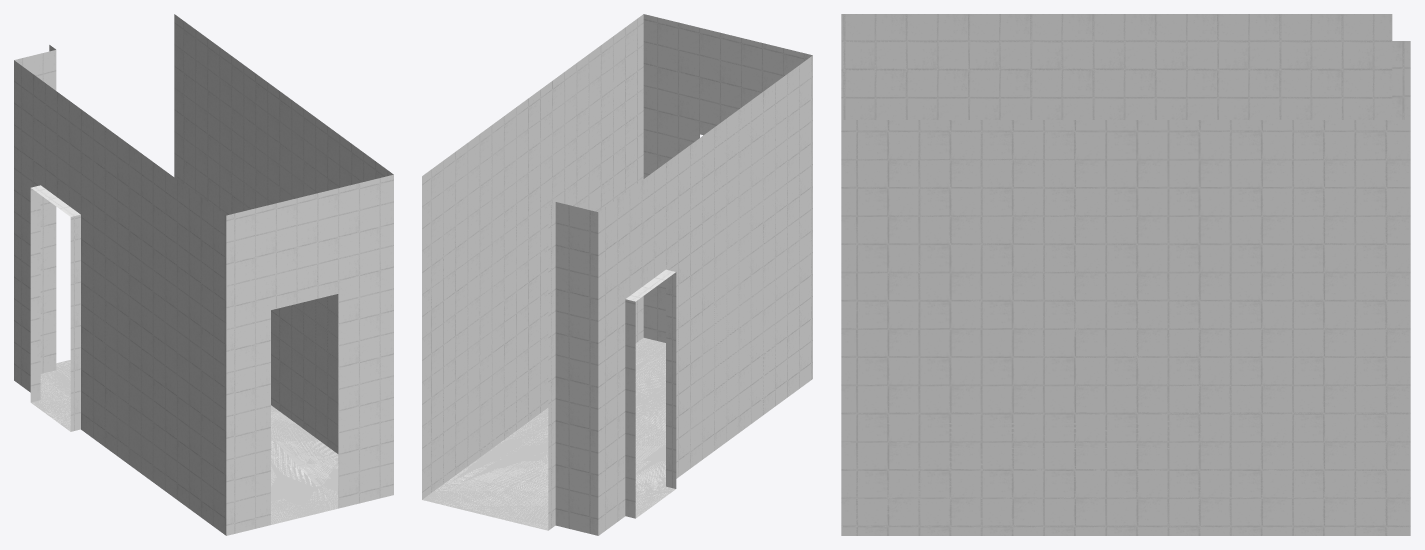
File: CUA017.obj
The picture shows the model from 3 angles, left to right: view 1: azimuth 30°, elevation 25°; view 2: azimuth 150°, elevation 25°; view 3: azimuth 270°, elevation 25°; orthographic projection. The views are drawn at different scales.
Parts seen in each view (by area): view 1: Mesh1 Group1 Model; view 2: Mesh1 Group1 Model; view 3: Mesh1 Group1 Model.
Part boxes in pixels (box(x1,y1,x2,y2)): Mesh1 Group1 Model: box(14, 14, 393, 535); Mesh1 Group1 Model: box(422, 14, 812, 535); Mesh1 Group1 Model: box(841, 14, 1410, 535).
Bounding box in the file's own units: 1.74 × 2.99 × 3.72.
Materials: 3 (1 with a texture image).
